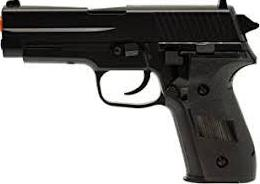gun: (1, 1, 260, 184)
